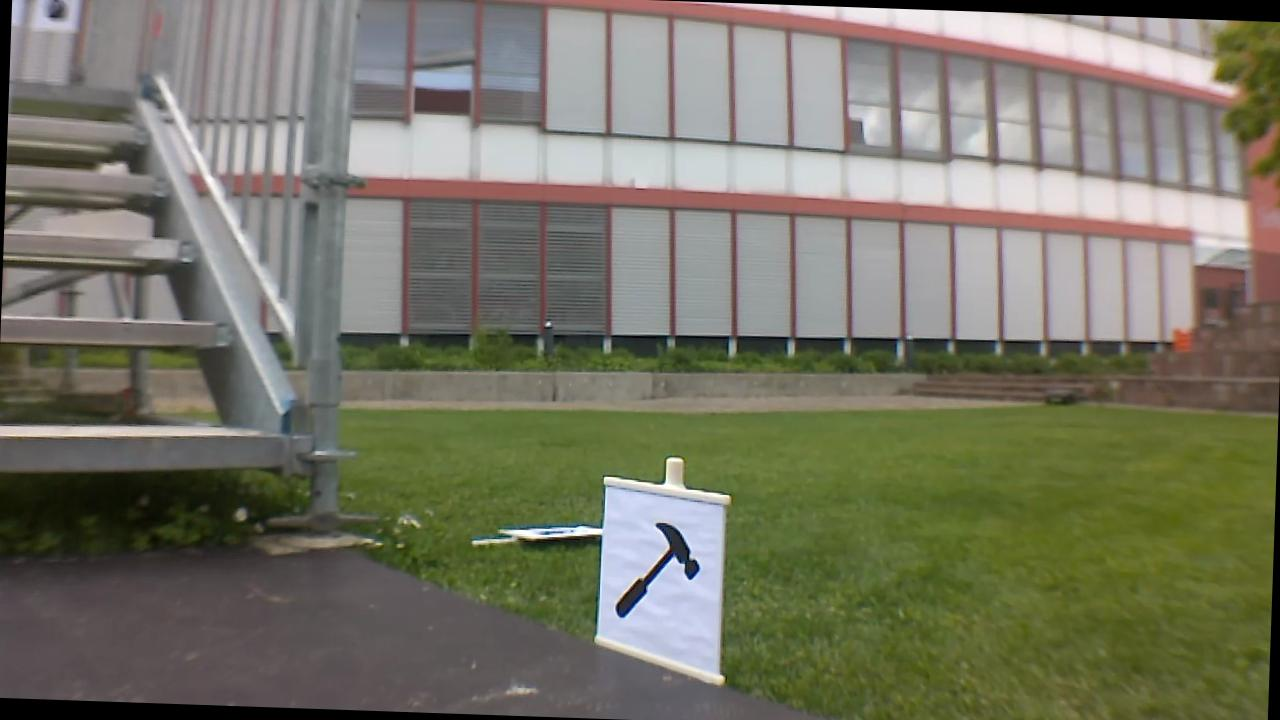edge: (3, 315, 238, 346), (4, 229, 193, 260), (8, 164, 165, 197), (10, 115, 146, 144), (10, 76, 127, 106)
hammer: (607, 510, 712, 631)
